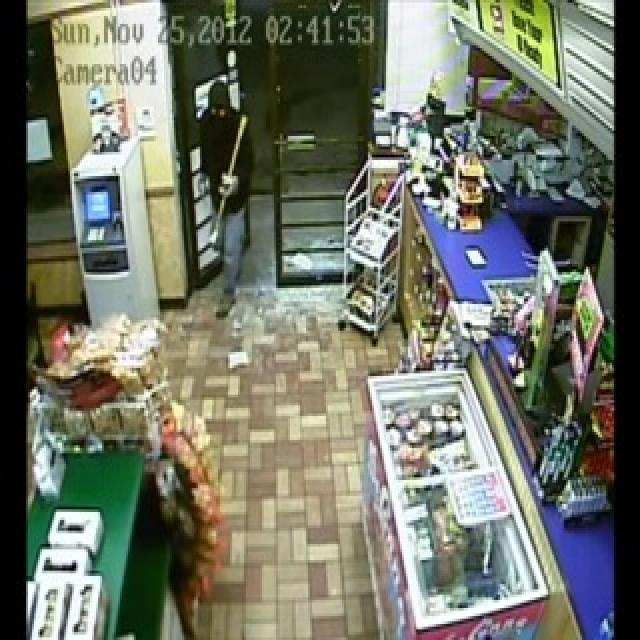thief: (196, 75, 259, 317)
